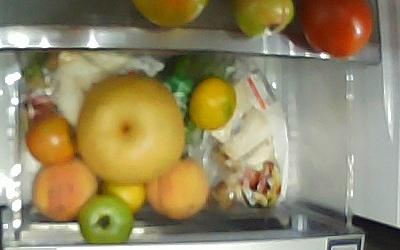peach: (32, 159, 98, 221), (146, 159, 208, 219)
pear: (75, 75, 185, 185)
tangerine: (188, 76, 237, 129), (100, 180, 145, 215)
tomato: (79, 194, 133, 245), (25, 116, 75, 166)
